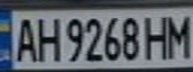2: (81, 14, 106, 63)
6: (103, 14, 124, 62)
8: (118, 14, 145, 62)
9: (60, 14, 84, 63)
A: (9, 14, 39, 63)
H: (142, 11, 172, 61), (30, 14, 60, 63)
M: (163, 11, 193, 60)
